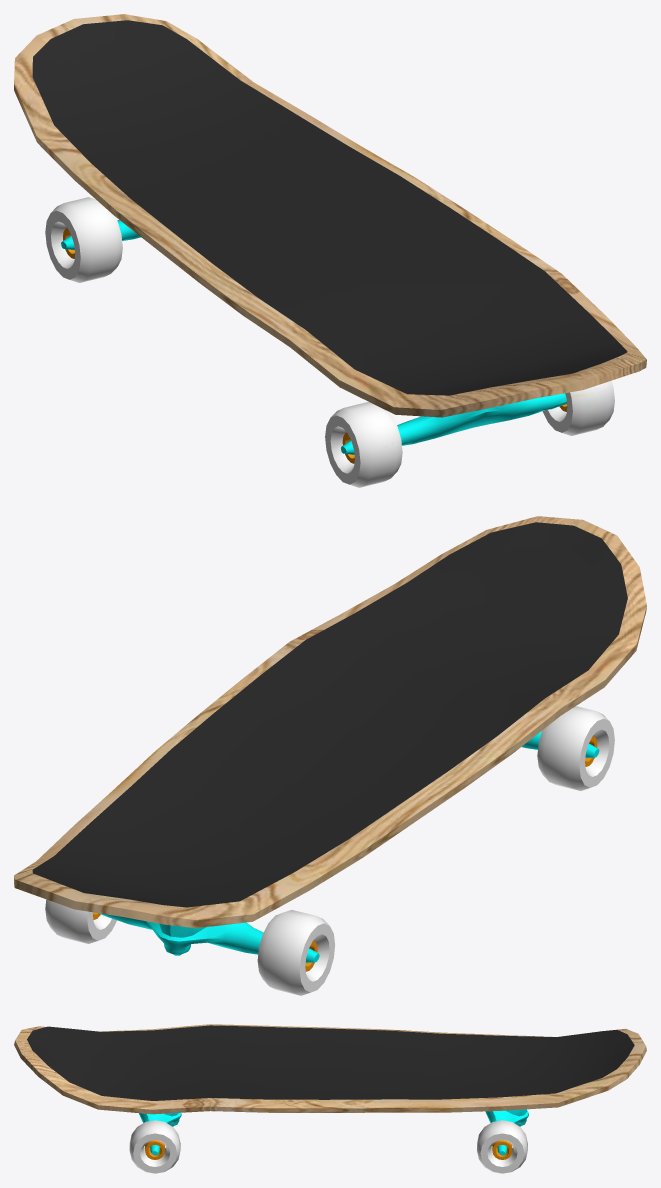
File: skateboard.glb
3 views of the same model, one above another, from view 1: azimuth 30°, elevation 25°; view 2: azimuth 150°, elevation 25°; view 3: azimuth 270°, elevation 25° (orthographic). The views are drawn at different scales.
Parts seen in each view (by area): view 1: skateboard; view 2: skateboard; view 3: skateboard.
Boxes of the visible parts, <box> form: skateboard: <box>14,14,646,487</box>; skateboard: <box>14,516,646,995</box>; skateboard: <box>14,1024,646,1173</box>.
Size of the model in its own units: 0.0168 by 0.00934 by 0.0546.
2 materials, 1 textured.
